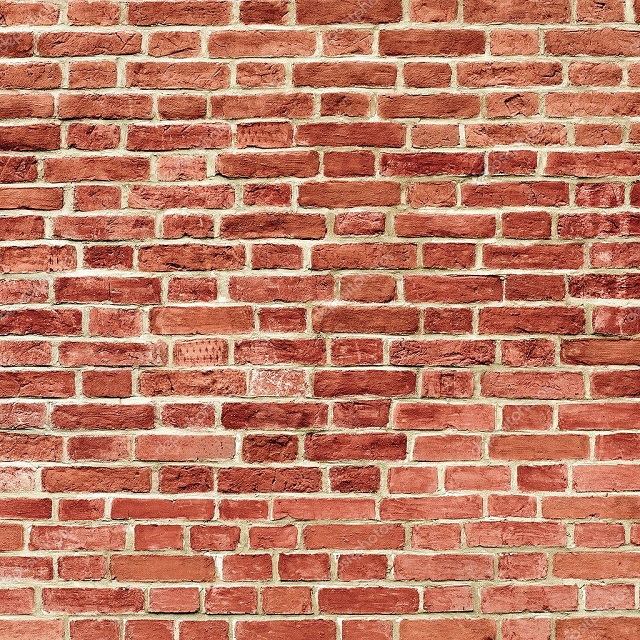wall: (7, 12, 640, 636)
